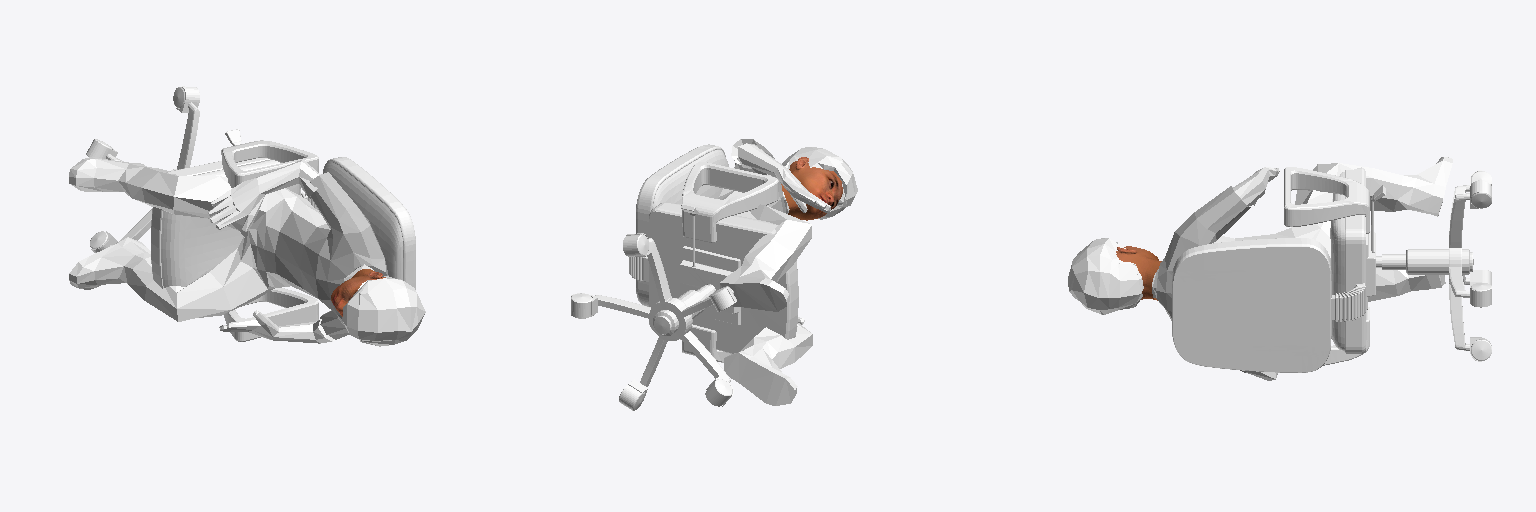
3 views of the same model, side by side, from view 1: azimuth 30°, elevation 25°; view 2: azimuth 150°, elevation 25°; view 3: azimuth 270°, elevation 25° (orthographic).
Visible parts, largest first — view 1: Object.1, Object.2, Object.12, Object.9, Object.10, Object.11; view 2: Object.2, Object.1, Object.11, Object.9, Object.12; view 3: Object.2, Object.1, Object.12, Object.11, Object.9.
Part boxes in pixels (x1,y1,x2,y2): Object.1: (69, 157, 388, 339); Object.2: (87, 86, 415, 341); Object.12: (342, 276, 425, 346); Object.9: (207, 159, 320, 231); Object.10: (219, 310, 337, 343); Object.11: (331, 269, 385, 316); Object.2: (571, 144, 798, 410); Object.1: (718, 139, 812, 405); Object.11: (781, 157, 842, 220); Object.9: (737, 143, 830, 212); Object.12: (782, 147, 857, 219); Object.2: (1172, 167, 1481, 372); Object.1: (1156, 157, 1452, 372); Object.12: (1068, 238, 1143, 314); Object.11: (1116, 246, 1161, 300); Object.9: (1233, 167, 1279, 206).
Bounding box in the file's own units: 208 × 178 × 358.
9 materials, 3 textured.